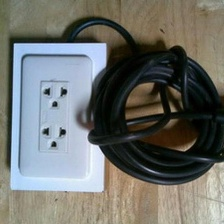three_eye_plug: (17, 54, 92, 180)
